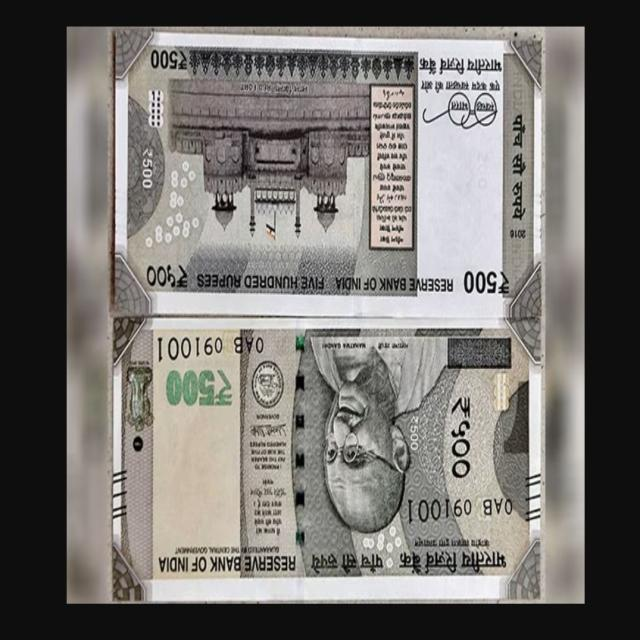500IndianRupees: (112, 33, 545, 317)
